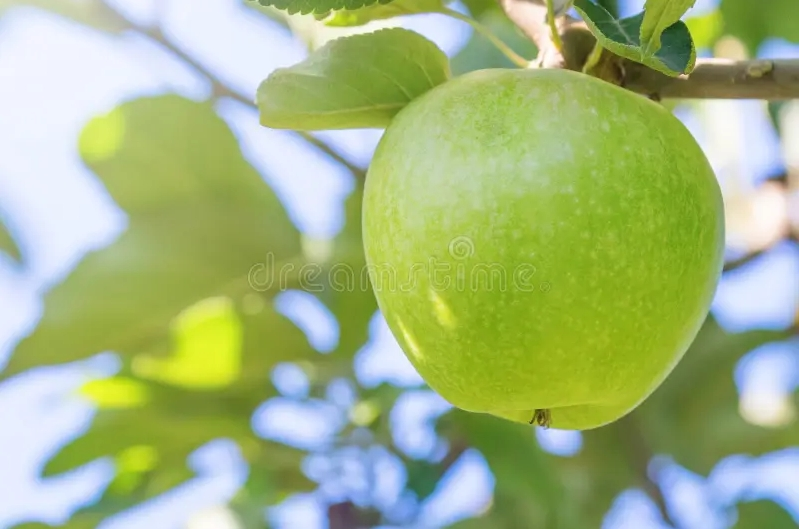apple/: (334, 48, 769, 453)
